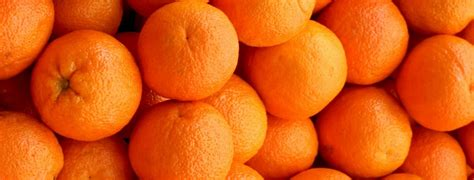orange: (29, 30, 144, 140), (245, 21, 352, 123), (140, 1, 240, 98), (318, 78, 415, 176), (130, 100, 239, 180), (396, 32, 474, 135)
